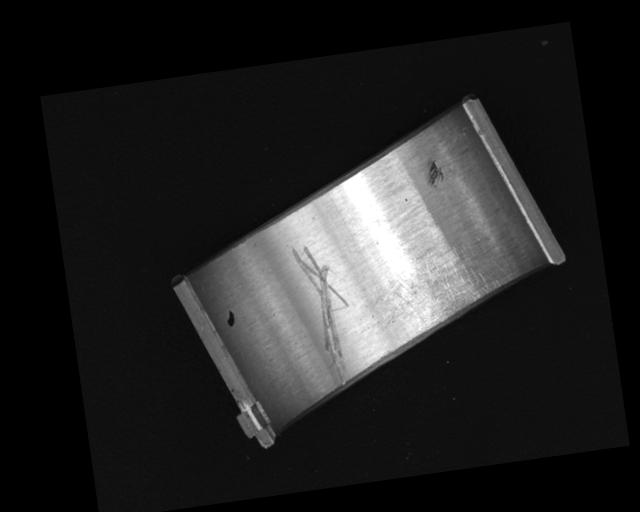blot: (224, 308, 236, 327)
bruise: (424, 157, 446, 187)
nick: (290, 240, 359, 391)
scratch: (375, 235, 508, 340)
